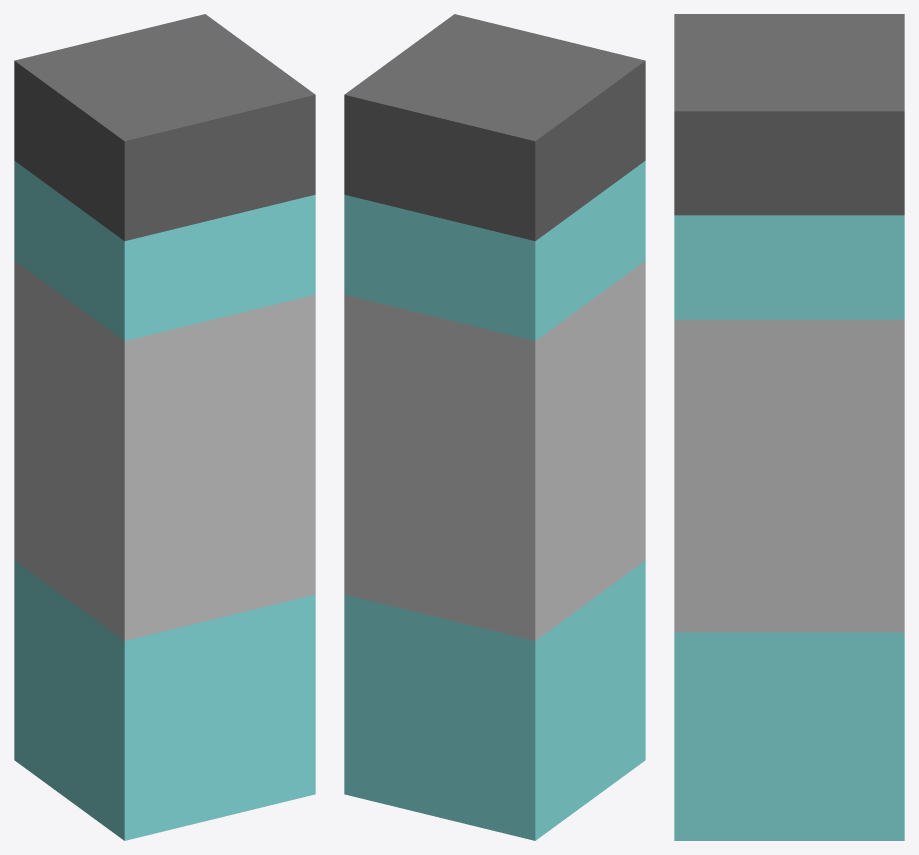
File: F_Garbage1.obj
3 views of the same model, side by side, from view 1: azimuth 30°, elevation 25°; view 2: azimuth 150°, elevation 25°; view 3: azimuth 270°, elevation 25° (orthographic). The views are drawn at different scales.
Parts seen in each view (by area): view 1: F_Garbage1; view 2: F_Garbage1; view 3: F_Garbage1.
Boxes of the visible parts, x1=… form: F_Garbage1: x1=14, y1=14, x2=315, y2=840; F_Garbage1: x1=344, y1=14, x2=645, y2=840; F_Garbage1: x1=674, y1=14, x2=904, y2=840.
Size of the model in its own units: 0.2 by 0.7 by 0.2.
Materials: 1 (1 with a texture image).
